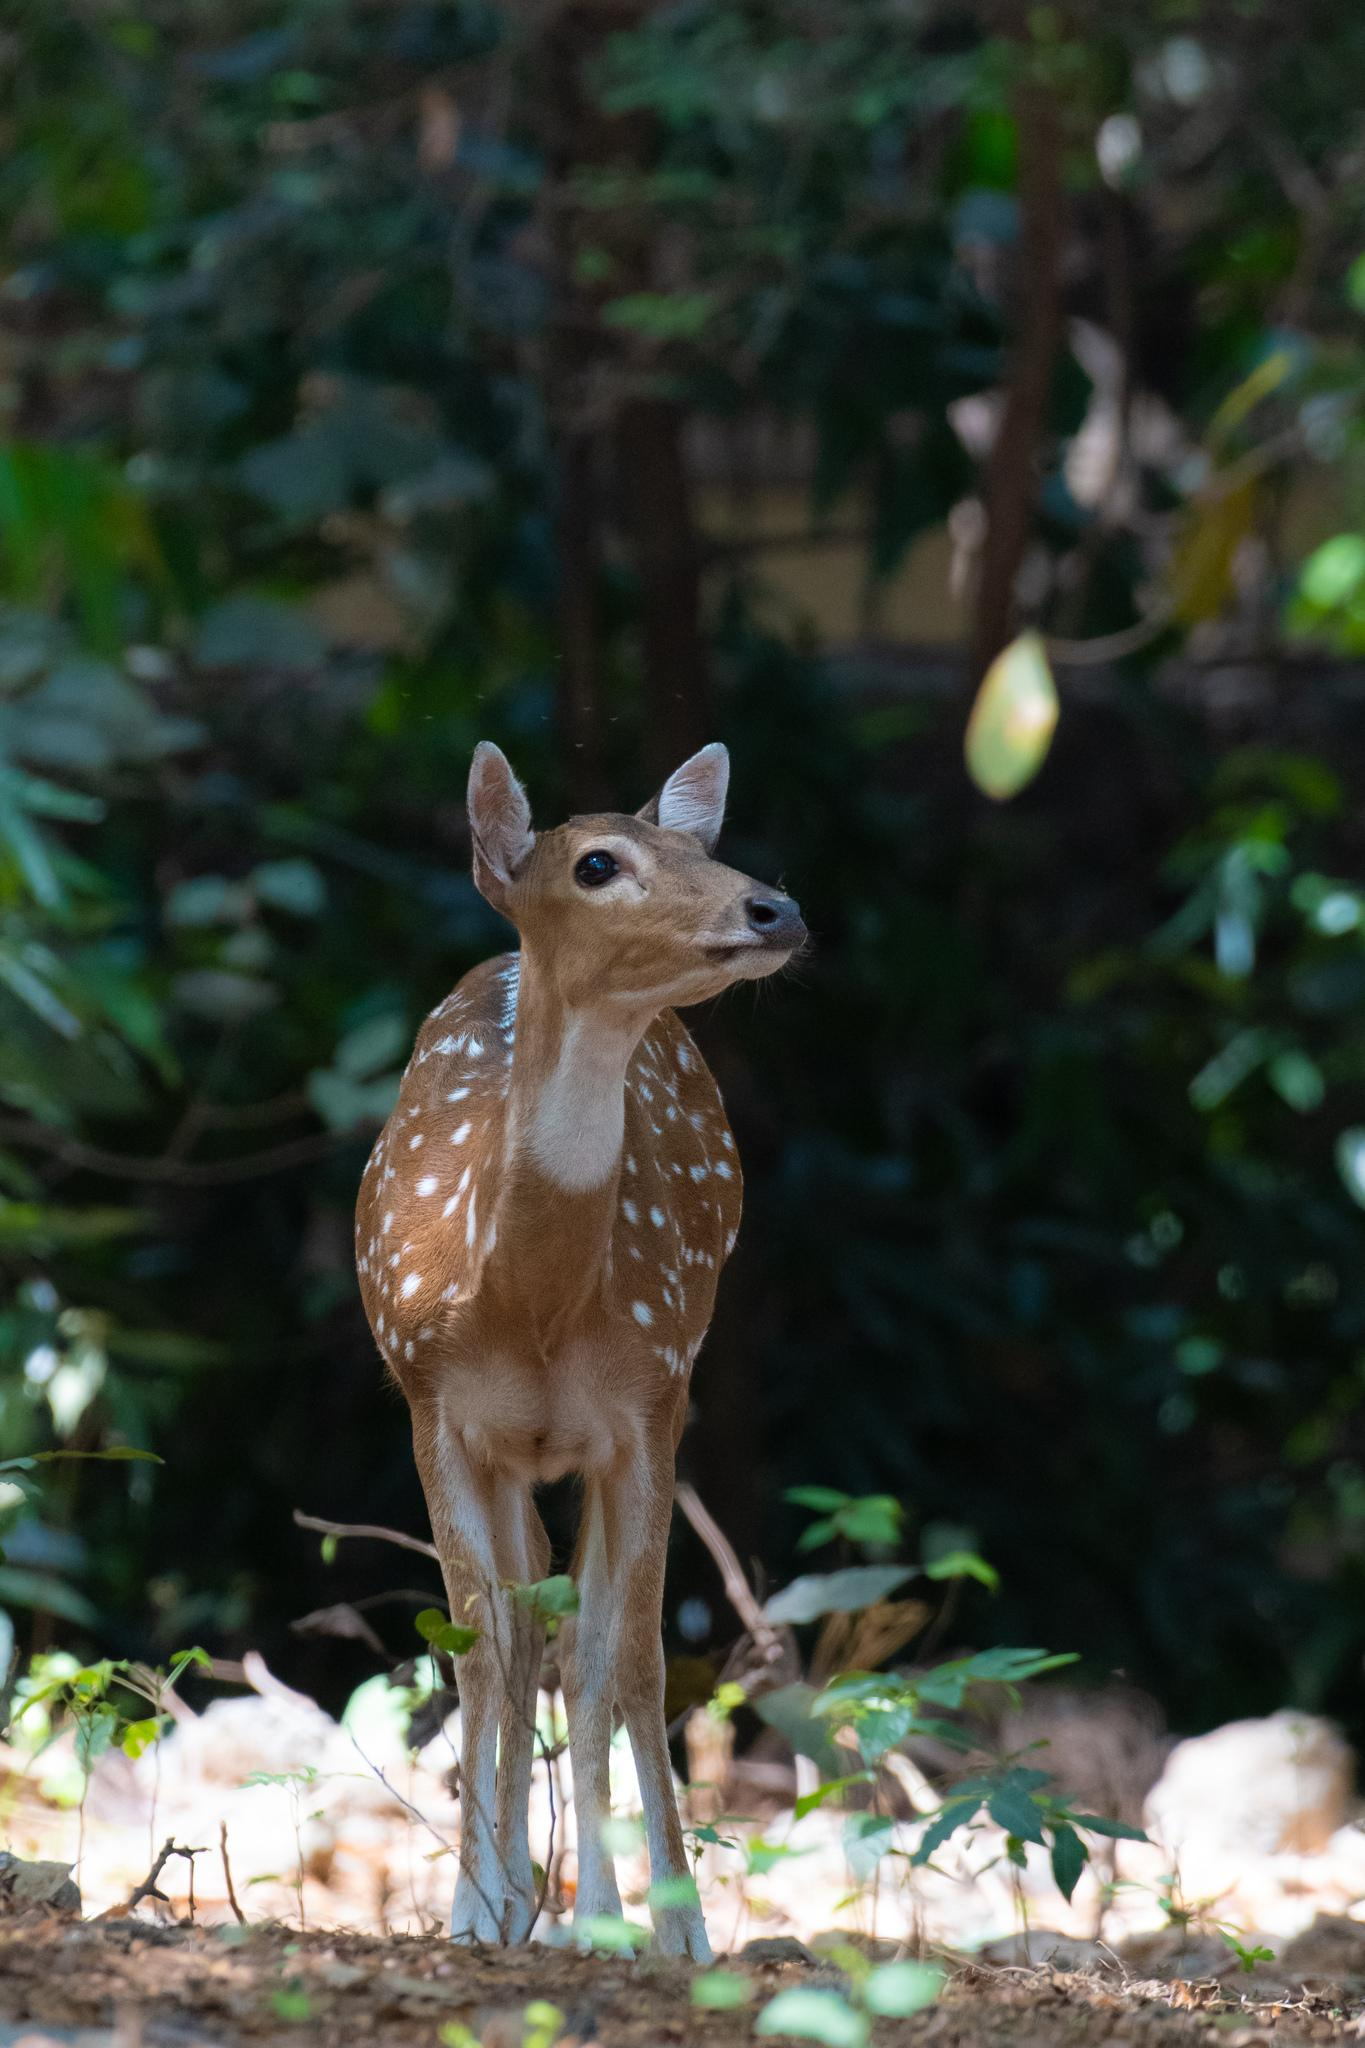Deer: (356, 743, 806, 1957)
